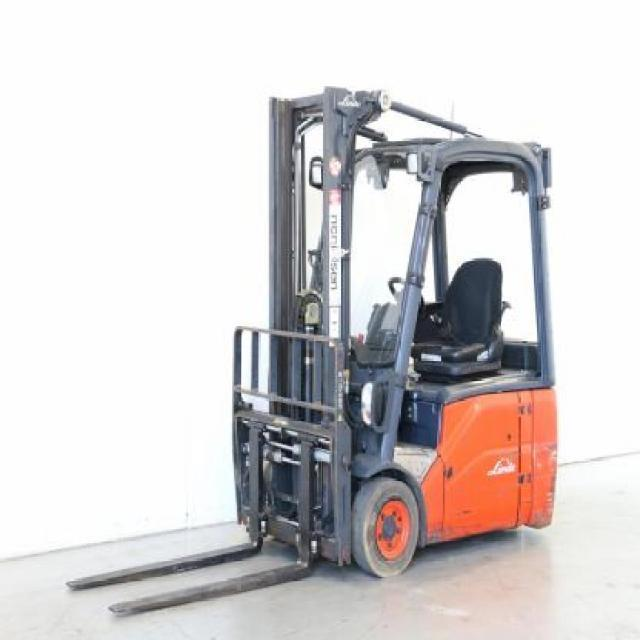forklift: (239, 113, 561, 576)
